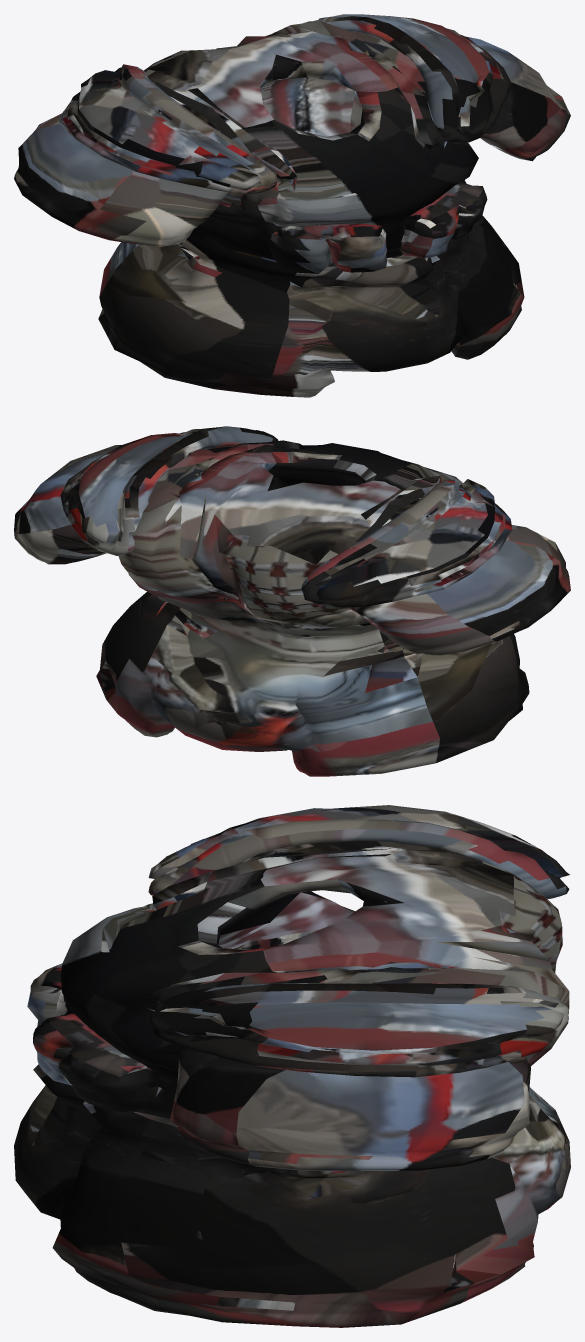
File: guofengjia3.fbx
3 renders of one model, top to bottom at view 1: azimuth 30°, elevation 25°; view 2: azimuth 150°, elevation 25°; view 3: azimuth 270°, elevation 25°, orthographic. The views are drawn at different scales.
Visible parts, largest first — view 1: Mesh0; view 2: Mesh0; view 3: Mesh0.
Part boxes in pixels (x1=…): Mesh0: x1=14, y1=14, x2=570, y2=397; Mesh0: x1=14, y1=426, x2=570, y2=776; Mesh0: x1=14, y1=805, x2=570, y2=1327.
Size of the model in its own units: 1.37 by 0.6156 by 0.9697.
